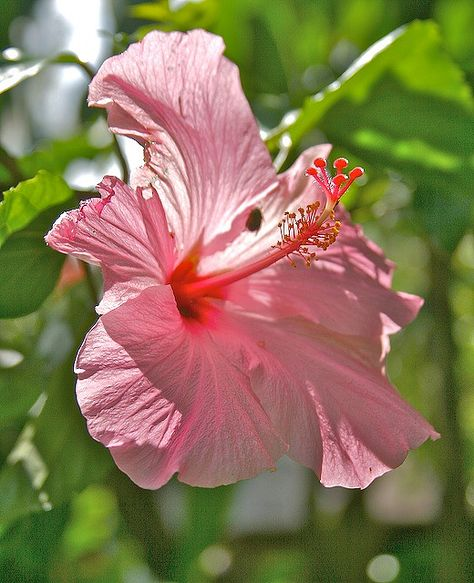Hibiscus: (73, 33, 430, 507)
